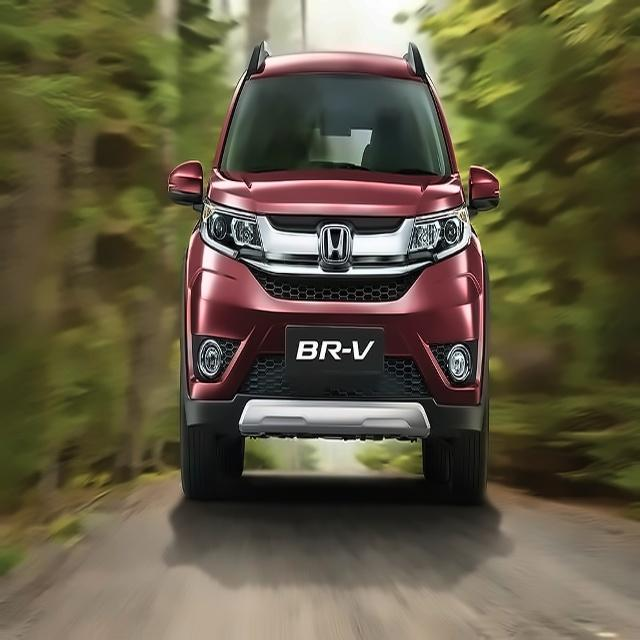Car hood: (208, 162, 467, 223)
Front bumper: (178, 234, 485, 440)
Headlight - -L-: (404, 204, 469, 272)
Headlight - -R-: (201, 197, 271, 261)
Side mirror - -L-: (464, 157, 497, 217)
Side mirror - -R-: (166, 162, 206, 210)
